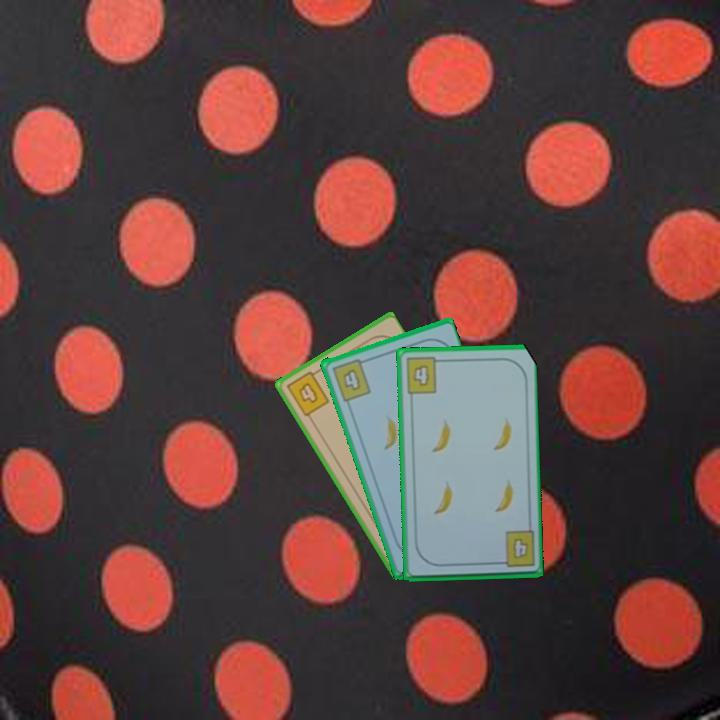4b: (283, 366, 332, 419), (328, 355, 373, 404), (402, 354, 445, 397), (493, 528, 537, 570)
